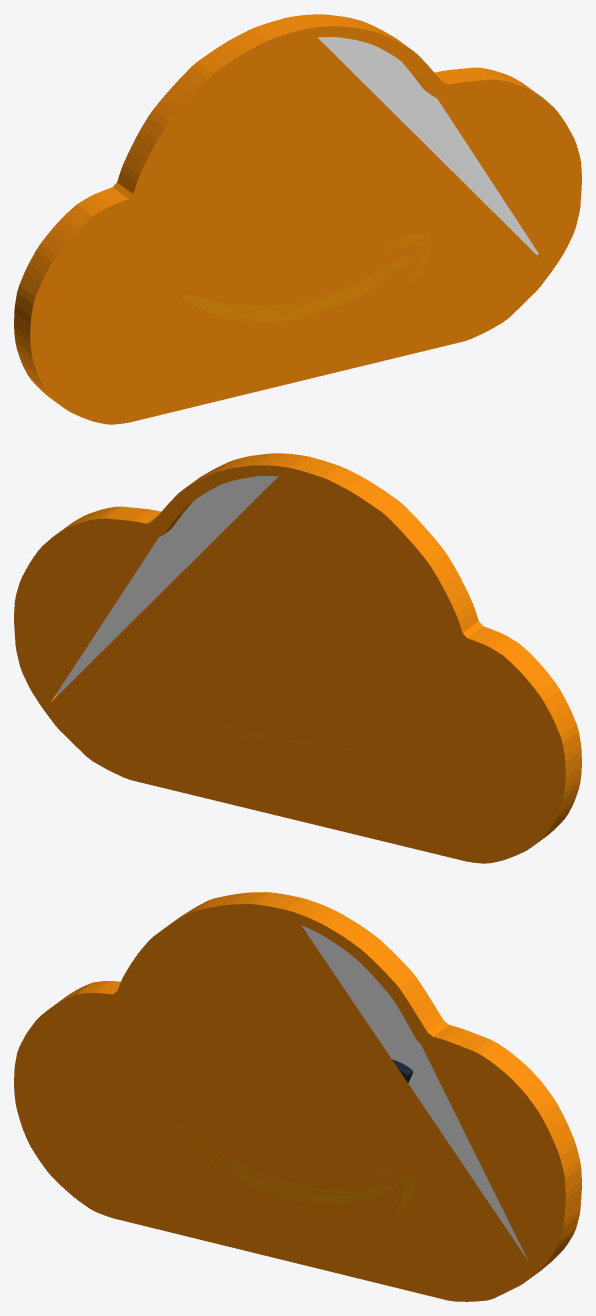
Rendered from aws.fbx.
3 views of the same model, one above another, from view 1: azimuth 30°, elevation 25°; view 2: azimuth 150°, elevation 25°; view 3: azimuth 330°, elevation 25° (orthographic).
Parts seen in each view (by area): view 1: Cube; view 2: Cube; view 3: Cube.
Part boxes in pixels (x1,y1,x2,y2): Cube: (14,14,581,424); Cube: (14,453,581,863); Cube: (14,892,581,1301).
Size of the model in its own units: 433 by 264 by 22.14.
